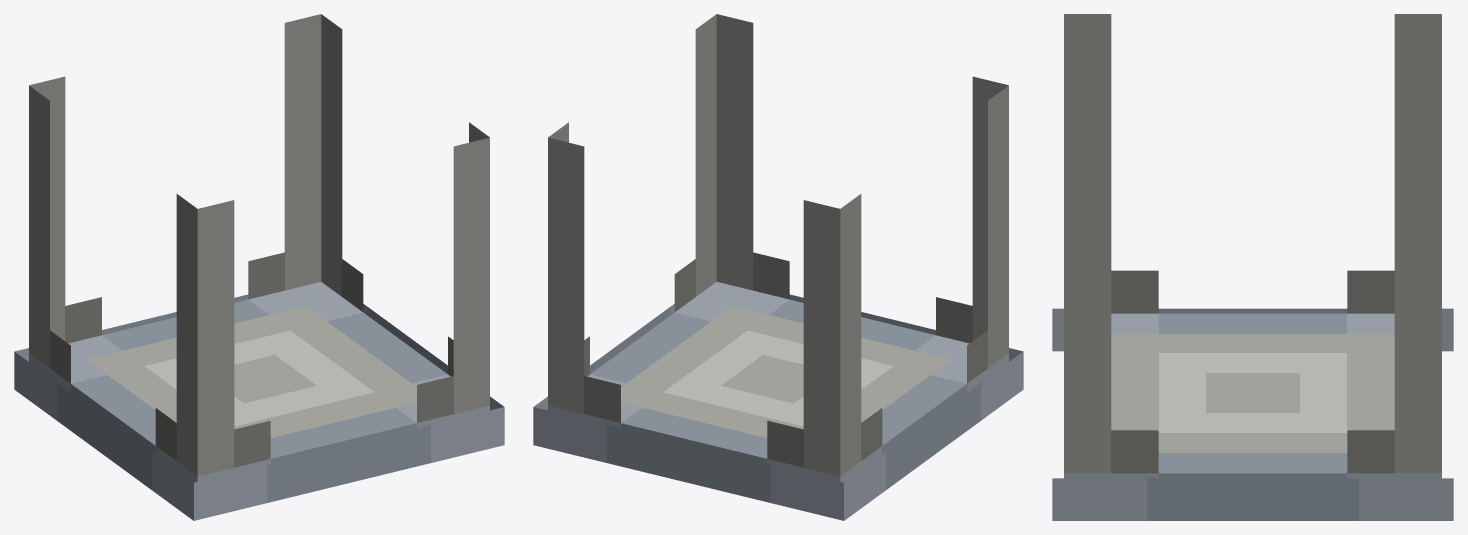
Rendered from Small Light Gray Pod.glb.
The picture shows the model from 3 angles, left to right: view 1: azimuth 30°, elevation 25°; view 2: azimuth 150°, elevation 25°; view 3: azimuth 270°, elevation 25°; orthographic projection. The views are drawn at different scales.
Visible parts, largest first — view 1: cube; view 2: cube; view 3: cube.
Boxes of the visible parts, x1,y1,x2,y2 form: cube: (14,14,504,520); cube: (533,14,1023,520); cube: (1052,14,1453,520).
Bounding box in the file's own units: 1.06 × 1 × 1.06.
1 material, 1 textured.
